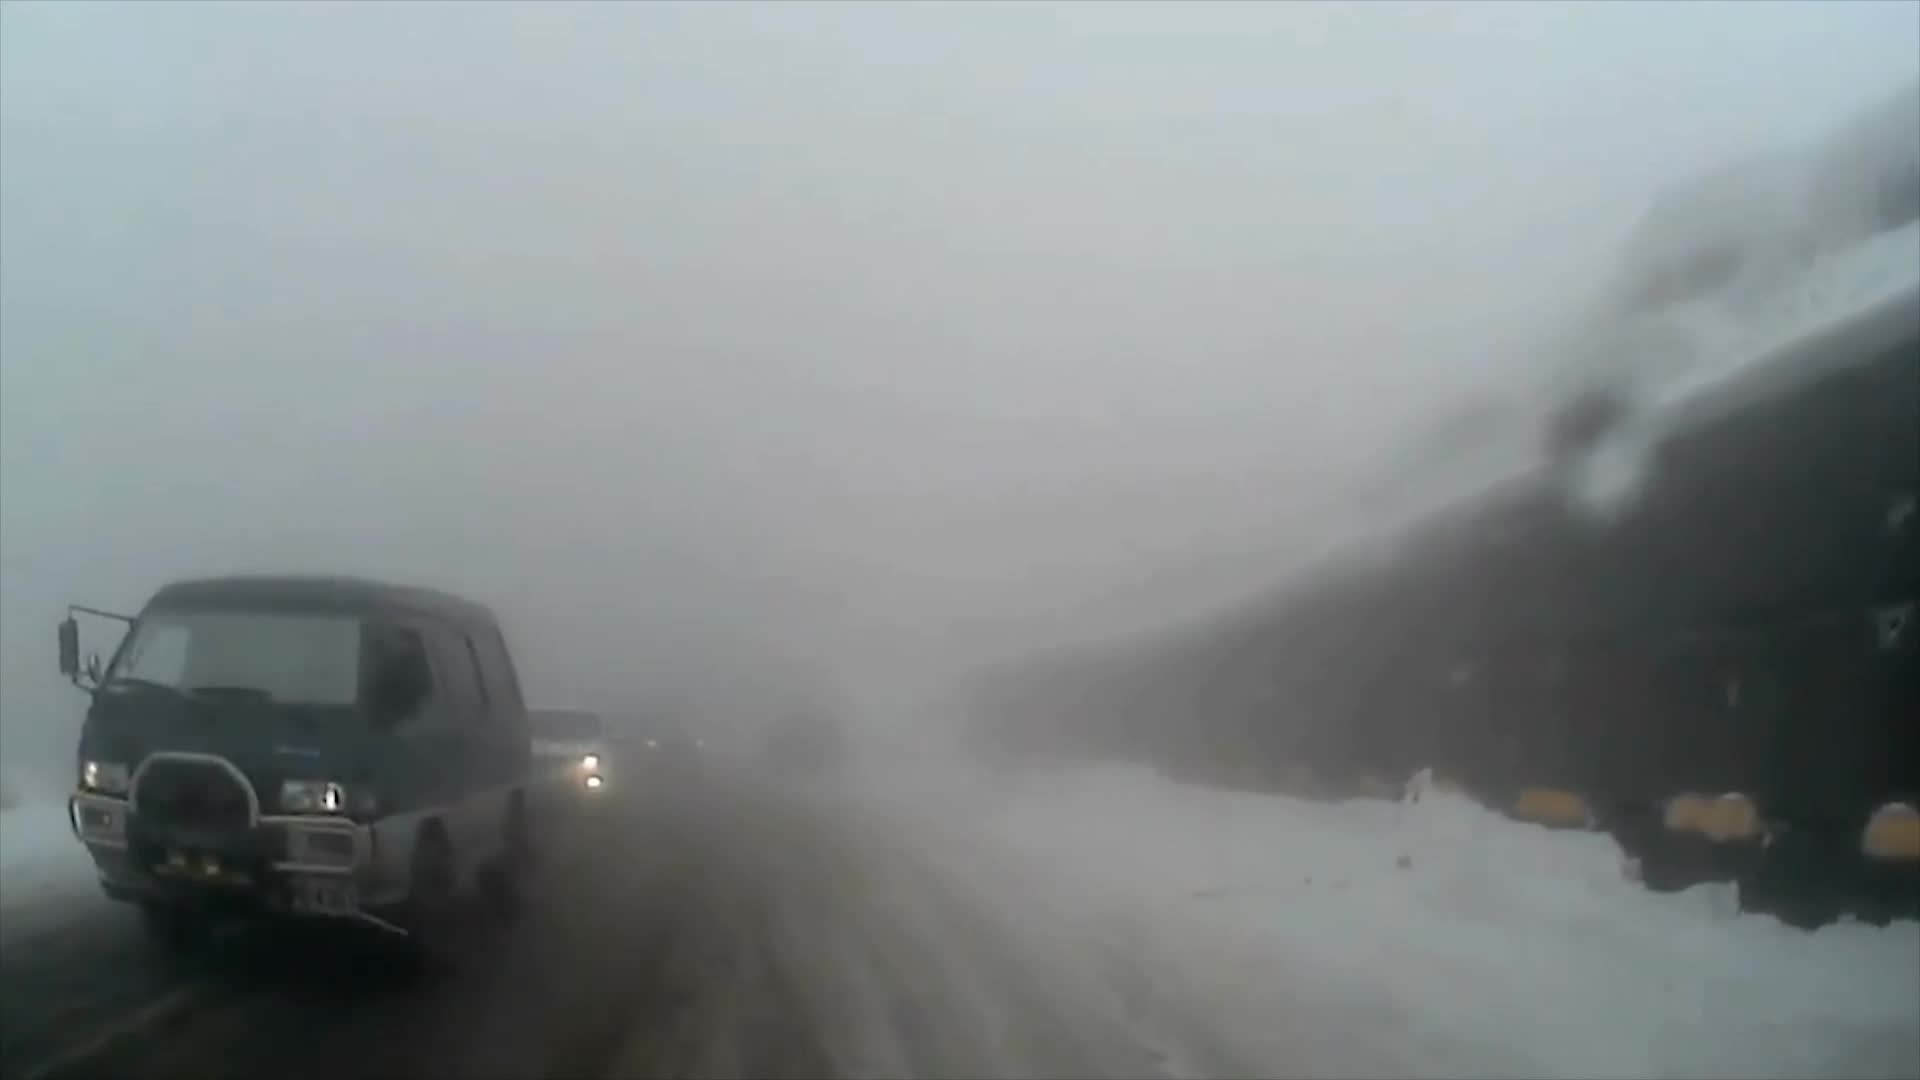vehicle: (50, 570, 535, 996), (488, 702, 618, 816)
